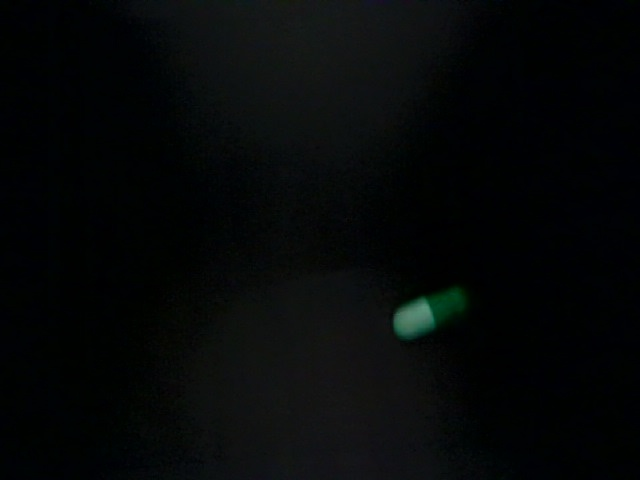YHLJ: (459, 375, 545, 470)
